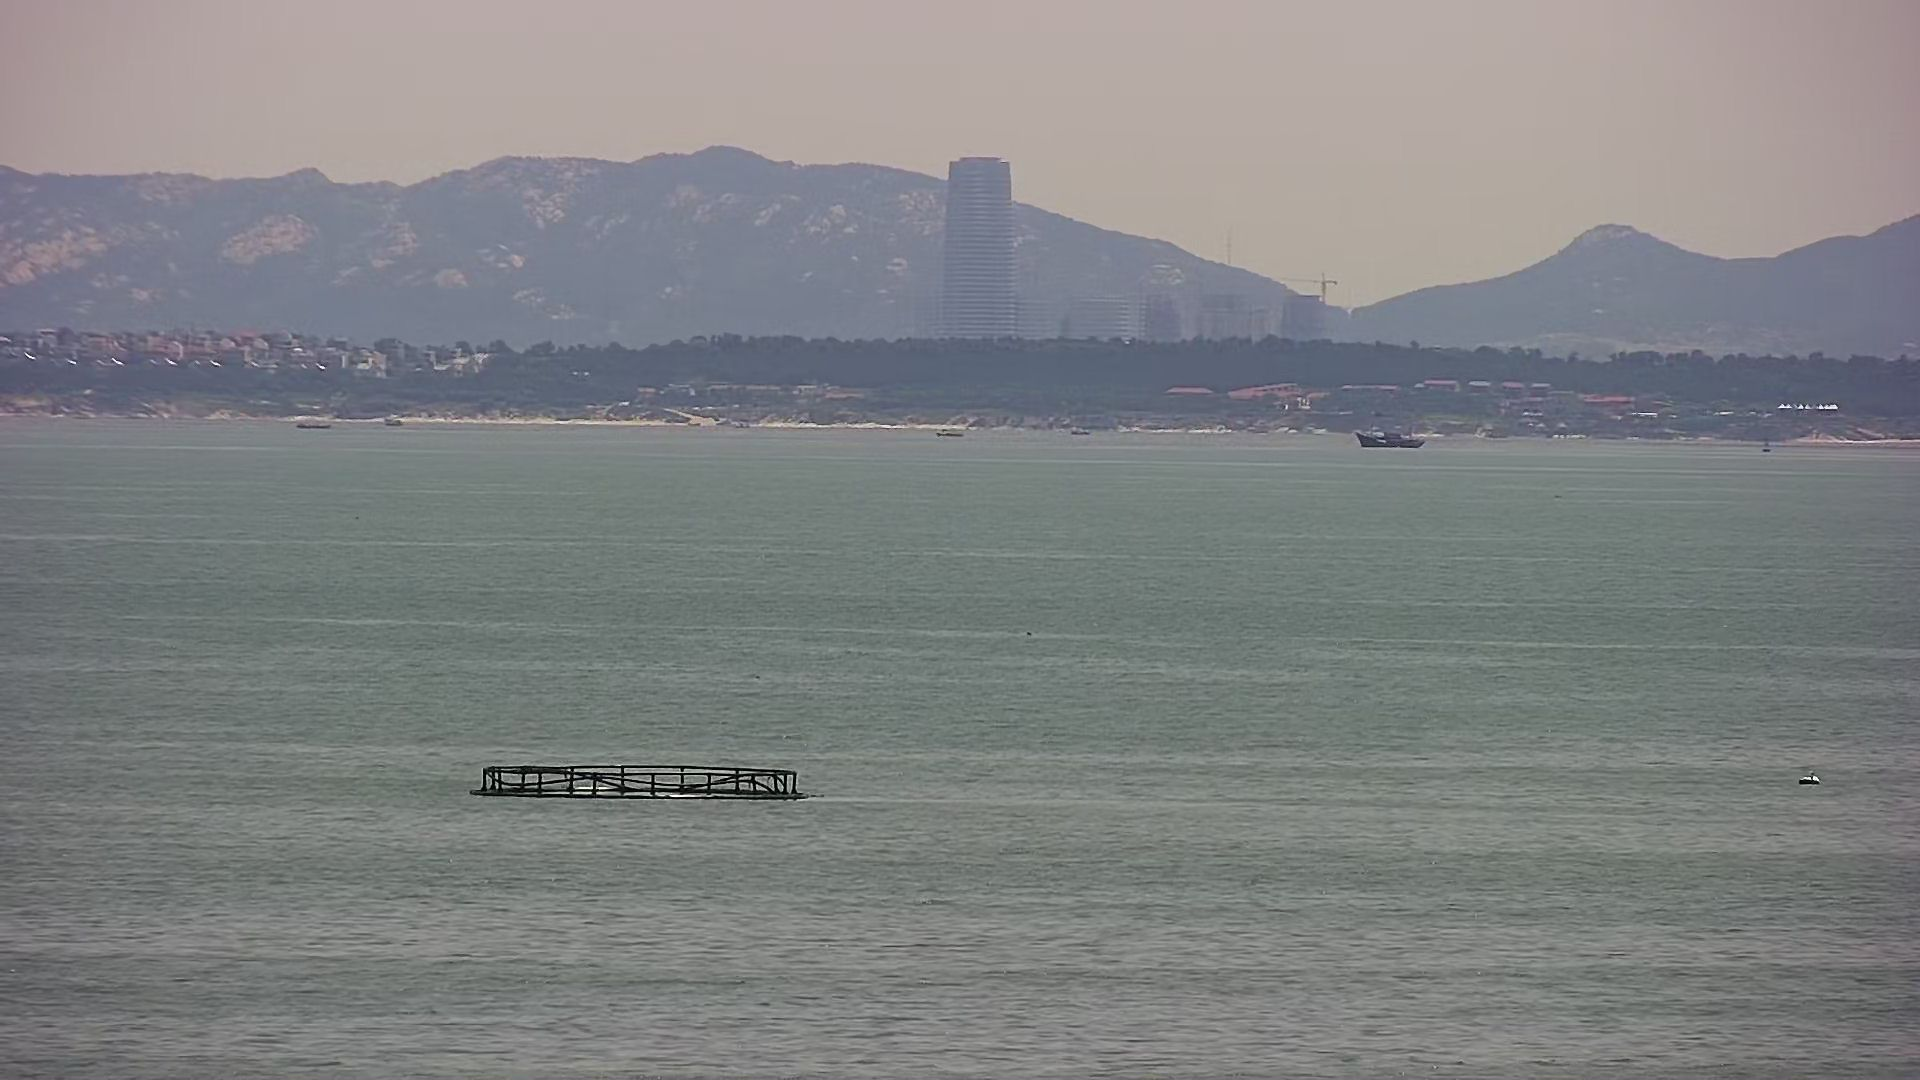ball: (1800, 767, 1822, 786)
boat: (1356, 429, 1432, 452)
platform: (471, 760, 814, 804)
